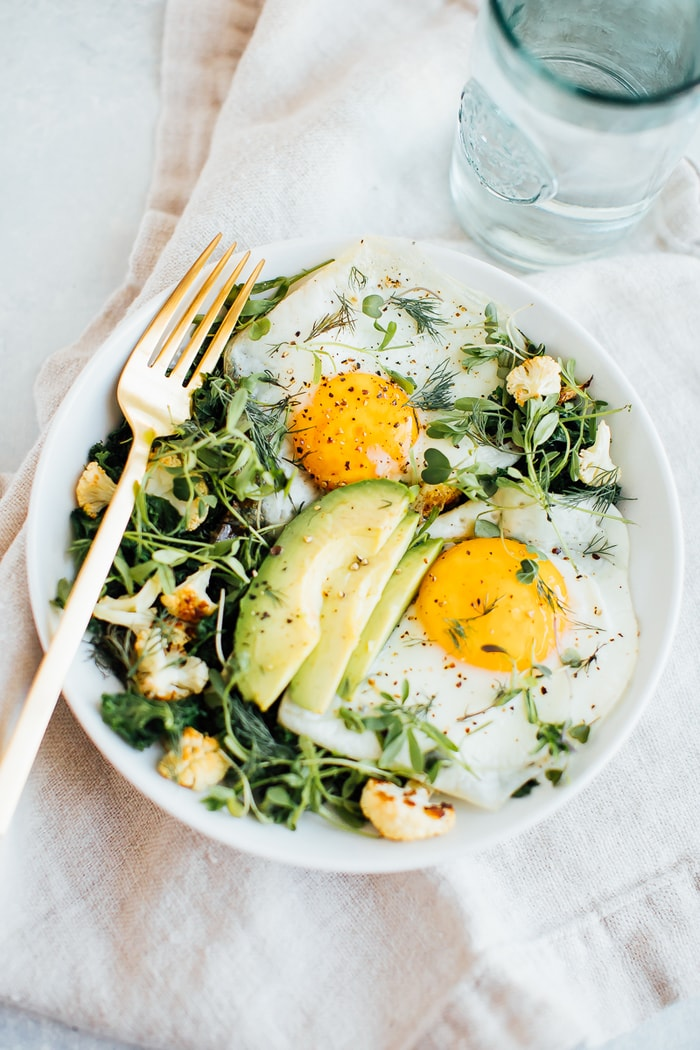fried egg: (415, 491, 599, 784), (258, 300, 462, 490)
